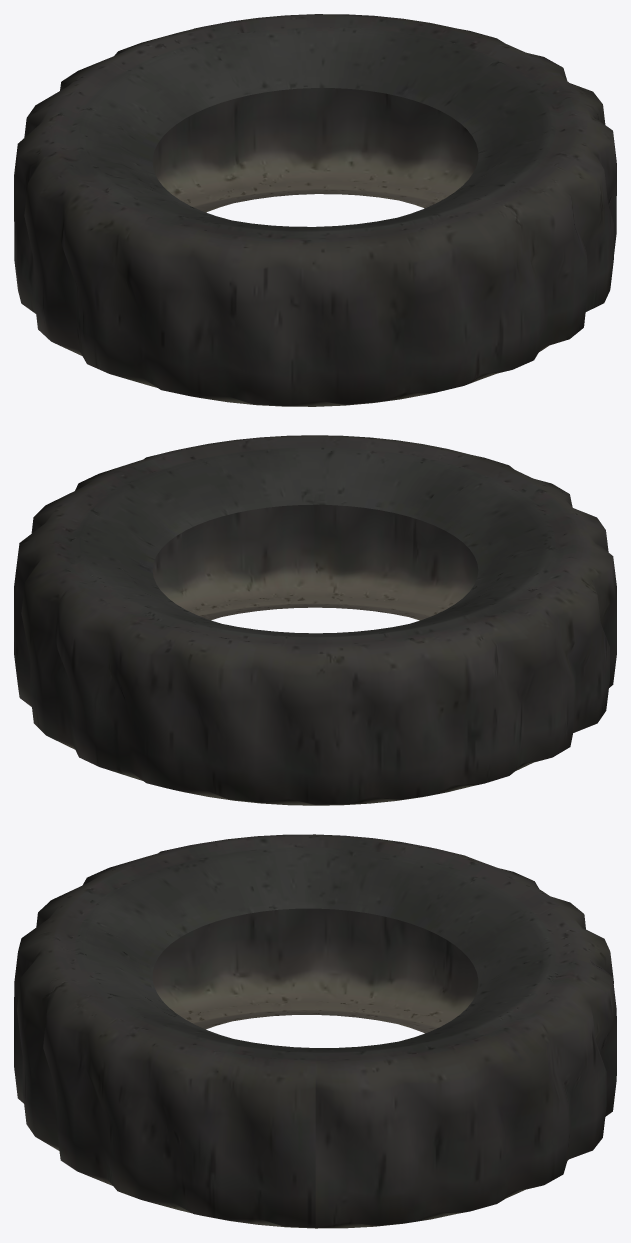
The model's file is tire.glb.
The picture shows the model from 3 angles, top to bottom: view 1: azimuth 30°, elevation 25°; view 2: azimuth 150°, elevation 25°; view 3: azimuth 270°, elevation 25°; orthographic projection. The views are drawn at different scales.
Parts seen in each view (by area): view 1: tire; view 2: tire; view 3: tire.
Boxes of the visible parts, bbox=[...] form: tire: bbox=[14, 14, 616, 406]; tire: bbox=[14, 435, 616, 805]; tire: bbox=[14, 834, 616, 1228].
Bounding box in the file's own units: 0.8068 × 0.236 × 0.7852.
1 material, 1 textured.
